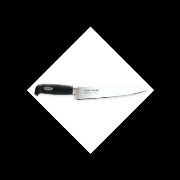k1: (66, 85, 148, 101)
